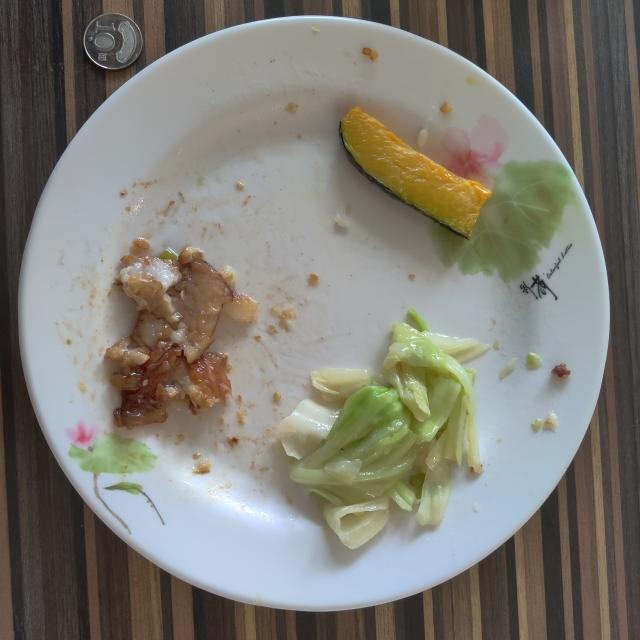Kabayaki sea bream fillet: (106, 238, 258, 429)
cabbage: (276, 311, 490, 549)
coin: (84, 12, 142, 70)
pumpkin: (340, 108, 491, 239)
